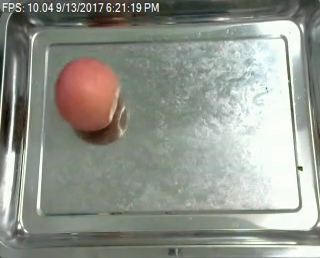Apple: (50, 53, 122, 138)
